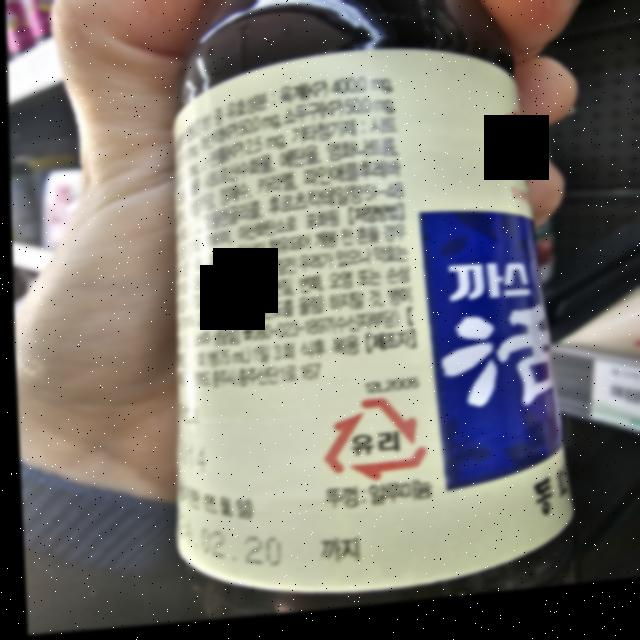Glass: (313, 395, 431, 498)
